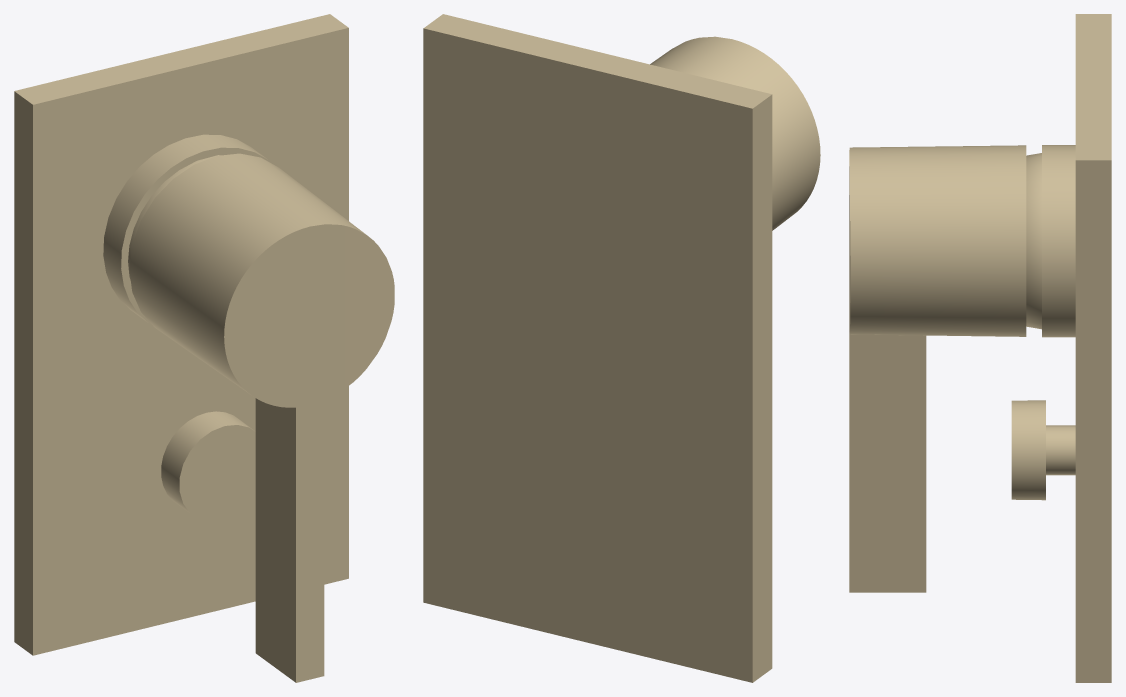
The picture shows the model from 3 angles, left to right: view 1: azimuth 30°, elevation 25°; view 2: azimuth 150°, elevation 25°; view 3: azimuth 270°, elevation 25°; orthographic projection. The views are drawn at different scales.
Visible parts, largest first — view 1: L_9d9f792c_e665_472d_9a15_b763418a4c13_I4, L_83cc3755_3717_4cfd_b48e_f97423d2960f_I3, L_7fd27011_fde0_4e51_a0c9_6d5cfa3f829b_I2, L_6a2c87c6_c981_45d3_adb4_ddbf117f9ff3_I1, L_d49a27f3_b920_46a6_8bb0_8f9722c96594_I5; view 2: L_9d9f792c_e665_472d_9a15_b763418a4c13_I4, L_83cc3755_3717_4cfd_b48e_f97423d2960f_I3; view 3: L_83cc3755_3717_4cfd_b48e_f97423d2960f_I3, L_9d9f792c_e665_472d_9a15_b763418a4c13_I4, L_6a2c87c6_c981_45d3_adb4_ddbf117f9ff3_I1, L_7fd27011_fde0_4e51_a0c9_6d5cfa3f829b_I2, L_d49a27f3_b920_46a6_8bb0_8f9722c96594_I5.
Boxes of the visible parts, <box> form: L_9d9f792c_e665_472d_9a15_b763418a4c13_I4: <box>14,14,348,655</box>; L_83cc3755_3717_4cfd_b48e_f97423d2960f_I3: <box>129,153,394,682</box>; L_7fd27011_fde0_4e51_a0c9_6d5cfa3f829b_I2: <box>161,411,255,522</box>; L_6a2c87c6_c981_45d3_adb4_ddbf117f9ff3_I1: <box>103,134,272,325</box>; L_d49a27f3_b920_46a6_8bb0_8f9722c96594_I5: <box>128,155,220,279</box>; L_9d9f792c_e665_472d_9a15_b763418a4c13_I4: <box>423,14,772,682</box>; L_83cc3755_3717_4cfd_b48e_f97423d2960f_I3: <box>650,36,820,230</box>; L_83cc3755_3717_4cfd_b48e_f97423d2960f_I3: <box>849,145,1026,592</box>; L_9d9f792c_e665_472d_9a15_b763418a4c13_I4: <box>1075,14,1111,682</box>; L_6a2c87c6_c981_45d3_adb4_ddbf117f9ff3_I1: <box>1042,145,1075,337</box>; L_7fd27011_fde0_4e51_a0c9_6d5cfa3f829b_I2: <box>1011,400,1075,500</box>; L_d49a27f3_b920_46a6_8bb0_8f9722c96594_I5: <box>1026,153,1041,329</box>.
Bounding box in the file's own units: 0.09 × 0.15 × 0.0682.
